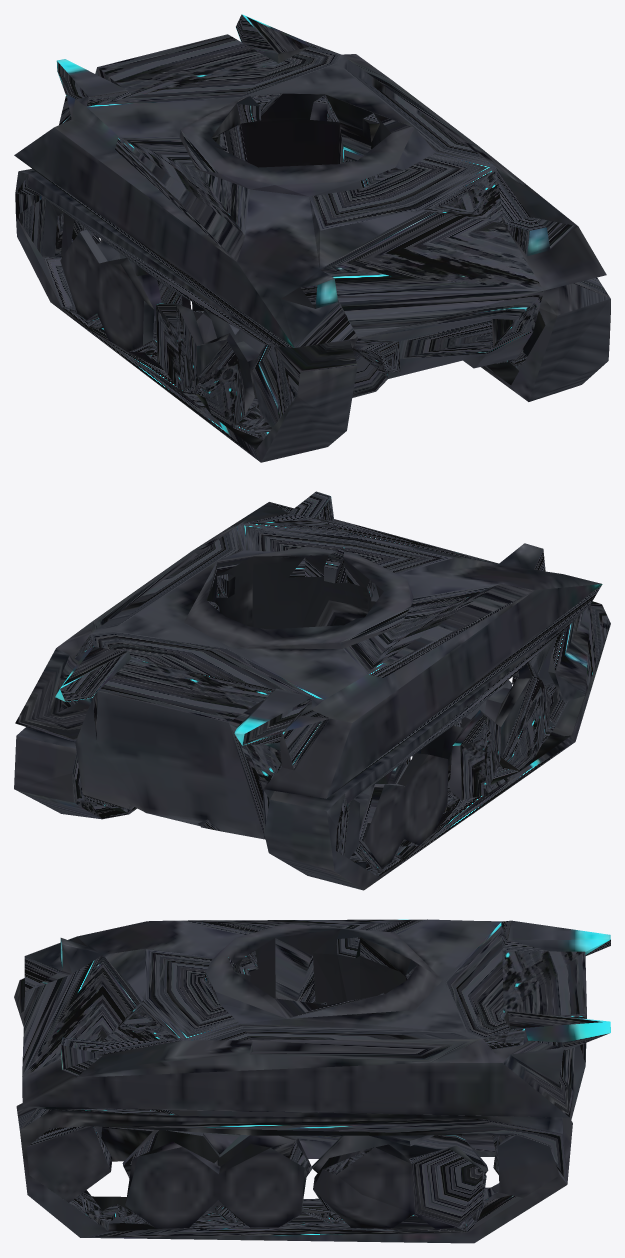
Rendered from hull-s8.glb.
3 renders of one model, top to bottom at view 1: azimuth 30°, elevation 25°; view 2: azimuth 150°, elevation 25°; view 3: azimuth 270°, elevation 25°, orthographic. The views are drawn at different scales.
Parts seen in each view (by area): view 1: 9ea61622-a94c-4b6b-8ea4-258bbf757e43_texturing.obj; view 2: 9ea61622-a94c-4b6b-8ea4-258bbf757e43_texturing.obj; view 3: 9ea61622-a94c-4b6b-8ea4-258bbf757e43_texturing.obj.
Part boxes in pixels (x1,y1,x2,y2): 9ea61622-a94c-4b6b-8ea4-258bbf757e43_texturing.obj: (14,14,610,462); 9ea61622-a94c-4b6b-8ea4-258bbf757e43_texturing.obj: (14,491,610,890); 9ea61622-a94c-4b6b-8ea4-258bbf757e43_texturing.obj: (14,919,610,1243).
Size of the model in its own units: 1.2 by 0.7665 by 1.97.
Materials: 1 (1 with a texture image).
